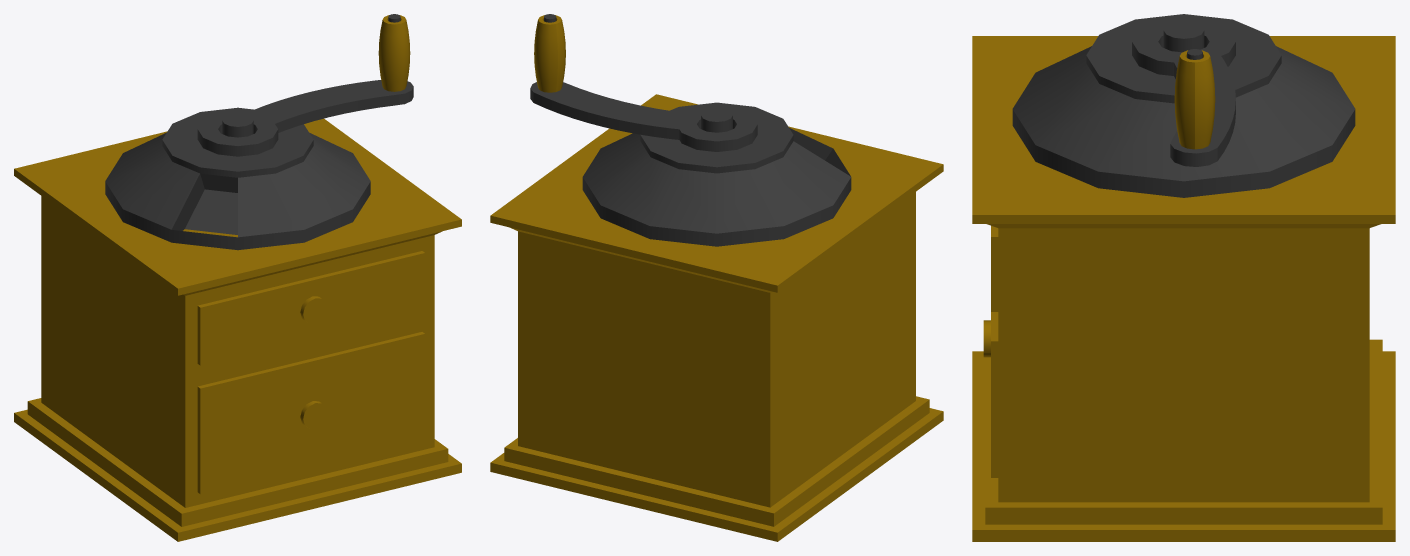
Rendered from Apothecary_Grinder.fbx.
3 views of the same model, side by side, from view 1: azimuth 30°, elevation 25°; view 2: azimuth 150°, elevation 25°; view 3: azimuth 270°, elevation 25° (orthographic). The views are drawn at different scales.
Visible parts, largest first — view 1: Group3, Group2, Group4, Group5; view 2: Group3, Group2, Group4, Group5; view 3: Group3, Group2, Group4, Group5.
Boxes of the visible parts, x1,y1,x2,y2 form: Group3: (14,118,461,541); Group2: (105,107,370,250); Group4: (197,14,413,156); Group5: (378,15,410,91); Group3: (490,94,943,541); Group2: (582,102,851,246); Group4: (530,14,757,151); Group5: (534,15,565,92); Group3: (972,36,1395,541); Group2: (1012,14,1355,197); Group4: (1132,19,1235,166); Group5: (1174,50,1215,149).
Bounding box in the file's own units: 0.343 × 0.3986 × 0.3048.
